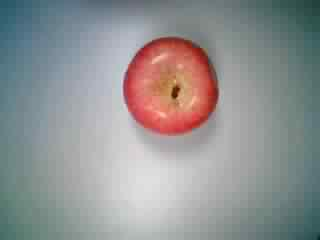apple: (119, 35, 224, 137)
